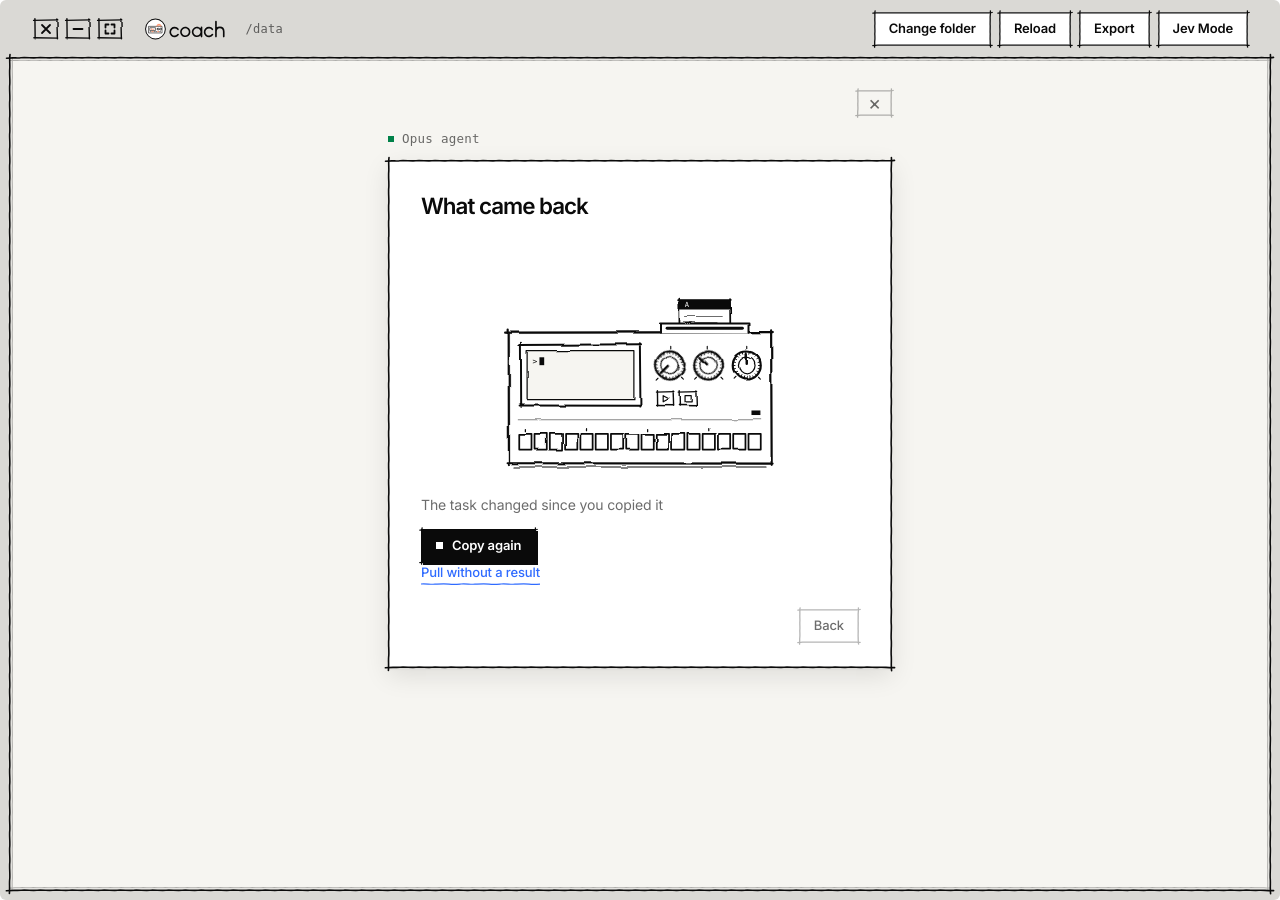
it: TestDeck with the handoff box › Covers AE7. Copy again after a task edit re-copies the plugged handoff with the new task and keeps one plug
Click the button "Copy again" at (479, 546), box [421,529,536,563]
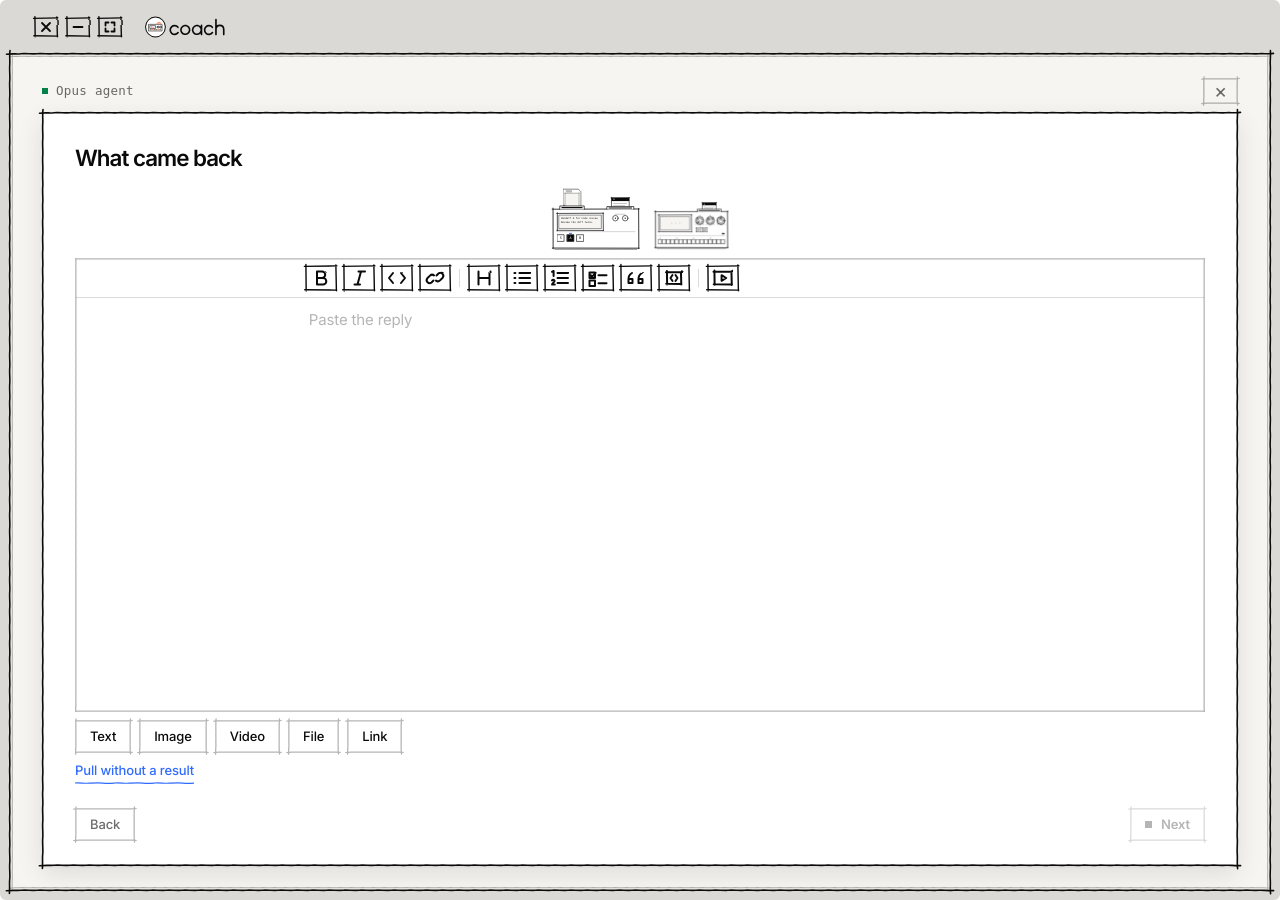
Expected: the field named "Reply" is shown, [76,298,1204,688]
